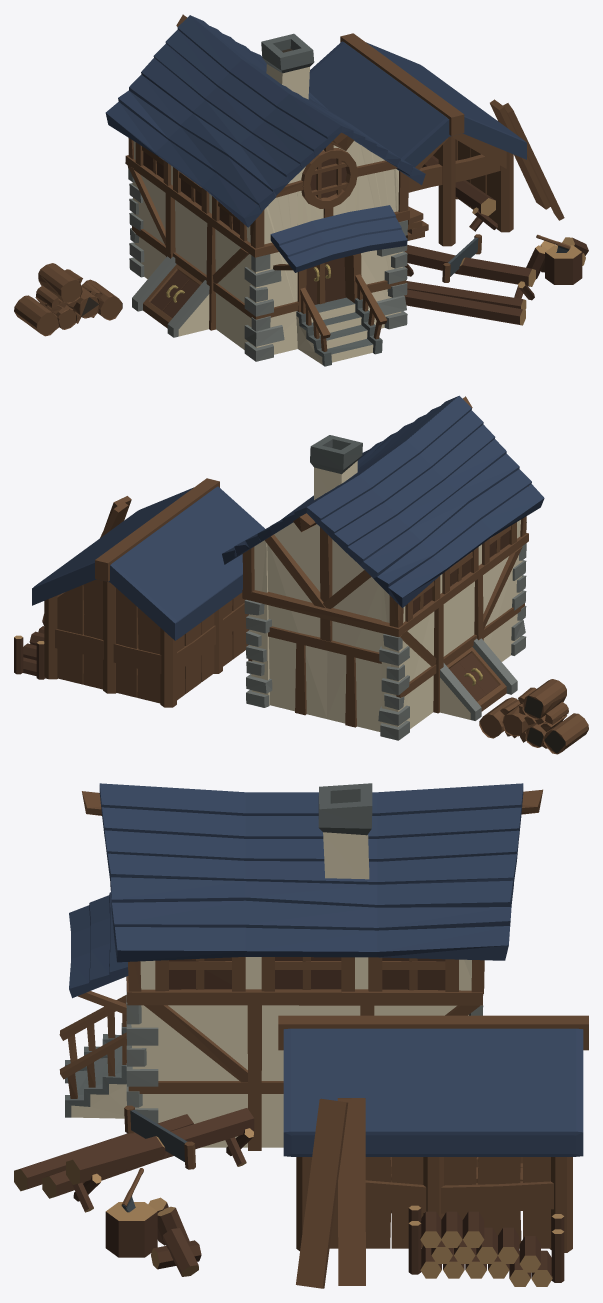
The model's file is LumberMill_BLU.glb.
3 renders of one model, top to bottom at view 1: azimuth 30°, elevation 25°; view 2: azimuth 150°, elevation 25°; view 3: azimuth 270°, elevation 25°, orthographic. The views are drawn at different scales.
Visible parts, largest first — view 1: LumberMill_House, LumberMill_LumberWorkshop, LumberMill_LogPile; view 2: LumberMill_House, LumberMill_LumberWorkshop, LumberMill_LogPile; view 3: LumberMill_House, LumberMill_LumberWorkshop.
Part boxes in pixels (x1,y1,x2,y2): LumberMill_House: [105, 14, 425, 366]; LumberMill_LumberWorkshop: [309, 33, 588, 325]; LumberMill_LogPile: [14, 263, 122, 336]; LumberMill_House: [222, 395, 544, 740]; LumberMill_LumberWorkshop: [14, 478, 264, 707]; LumberMill_LogPile: [479, 679, 588, 754]; LumberMill_House: [59, 783, 542, 1150]; LumberMill_LumberWorkshop: [14, 1015, 588, 1288].
Bounding box in the file's own units: 12.72 × 5.51 × 8.8.
Materials: 1 (1 with a texture image).
